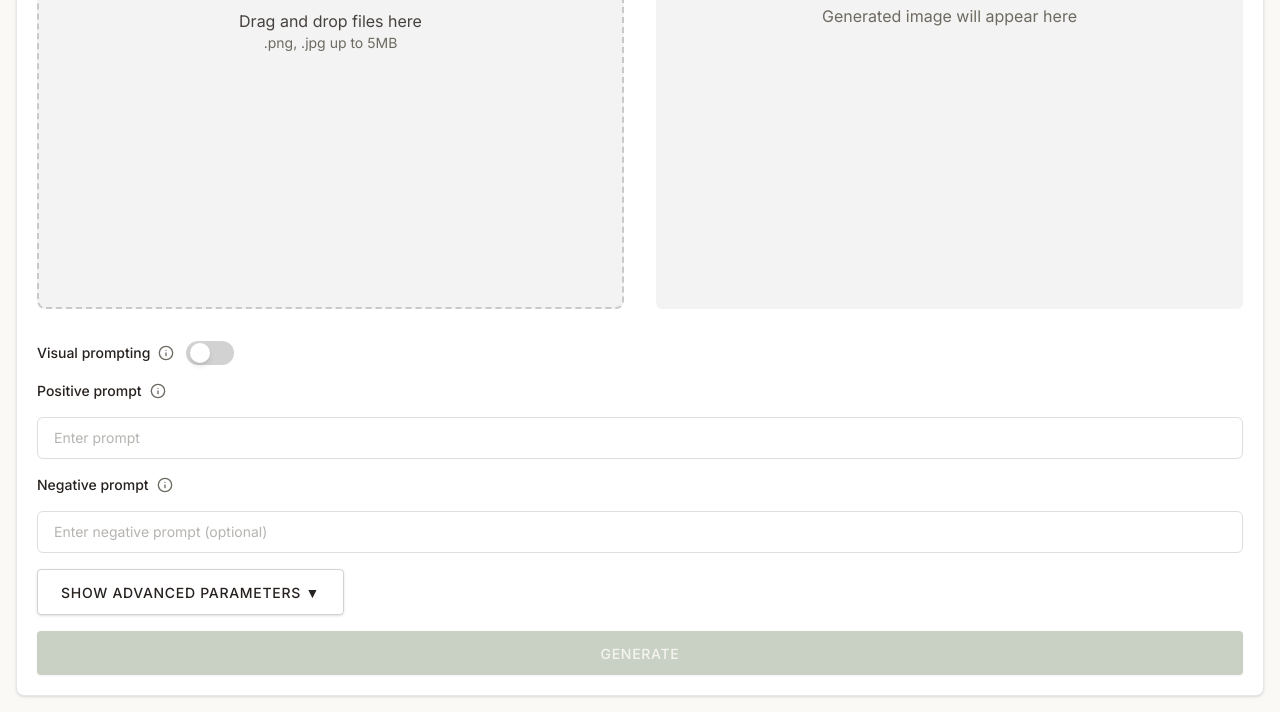
Test: ImageToImage › should show advanced parameters
(page scrolled)
Click the button "Show advanced parameters ▼" at (190, 592), box [37, 569, 344, 615]
(page scrolled)
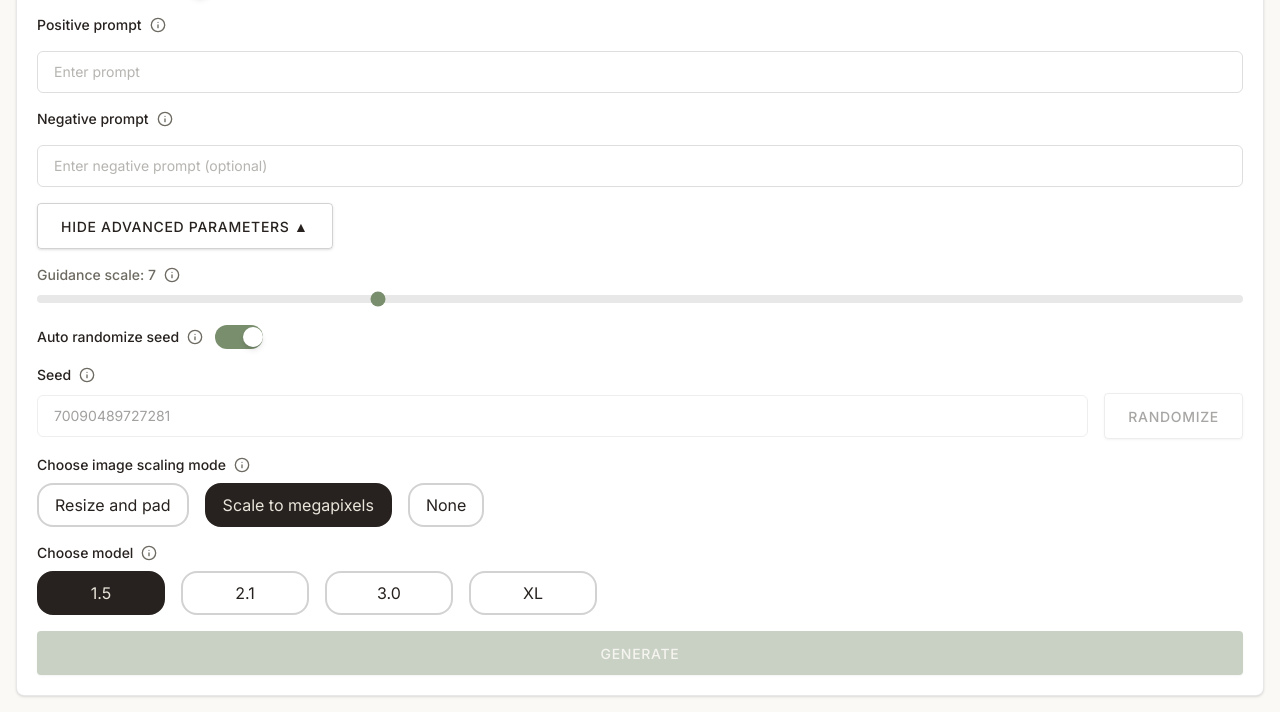
Result: the text "Guidance scale: 7" is shown at [37, 265, 156, 285]
Result: the text "Seed" is shown at [37, 365, 71, 385]
Result: the text "Choose image scaling mode" is shown at [37, 455, 226, 475]
